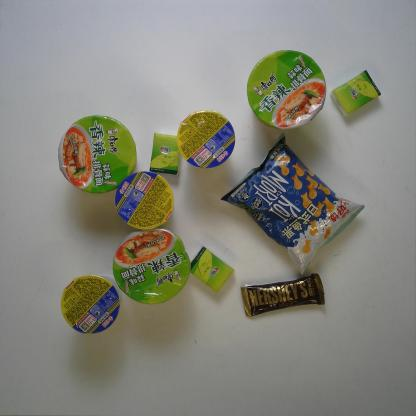Chocolate: (240, 272, 327, 318)
Instant Noodles: (245, 48, 326, 131), (57, 114, 138, 195), (112, 226, 192, 306), (60, 272, 123, 336), (114, 169, 175, 231), (176, 109, 236, 169)
Puffed Food: (220, 129, 366, 276)
Tissue: (330, 68, 382, 119), (190, 244, 235, 296), (148, 131, 182, 178)
